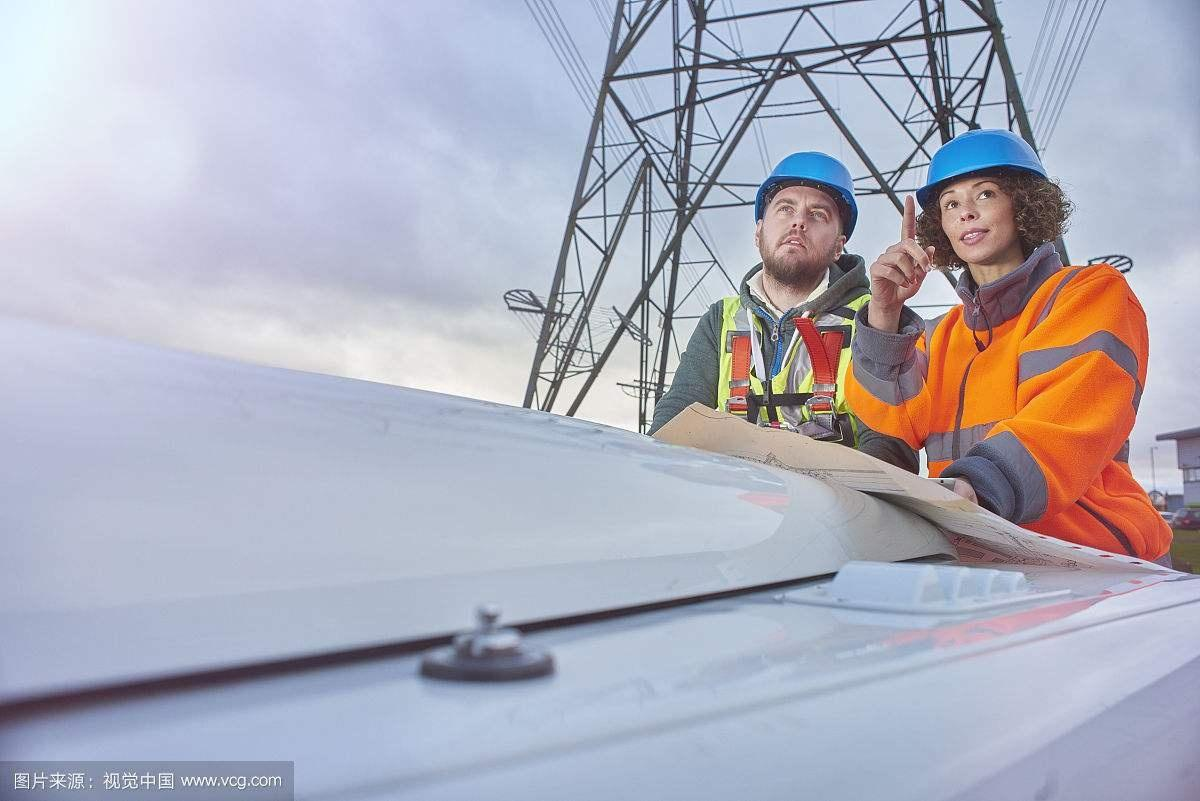Helmet: (915, 127, 1058, 266), (749, 152, 858, 278)
